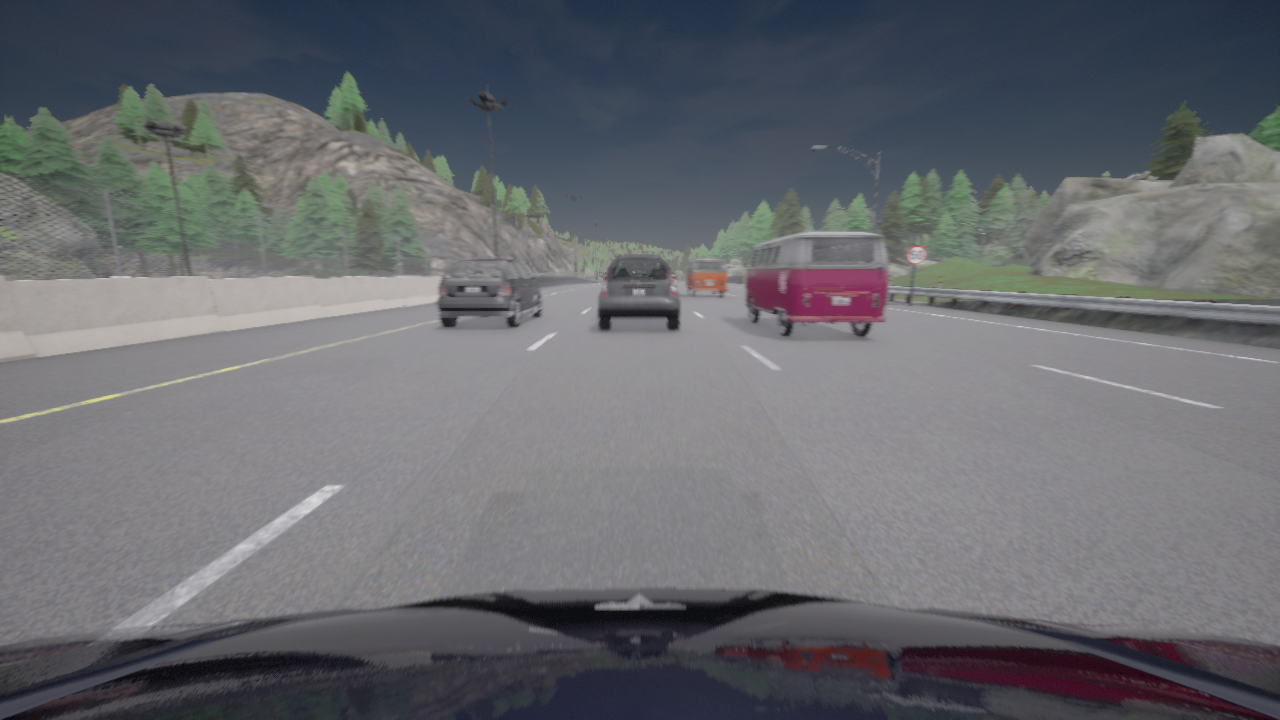cyclist: (0, 588, 1279, 719), (743, 231, 888, 337), (436, 259, 542, 328), (598, 256, 679, 330), (684, 259, 726, 297)
